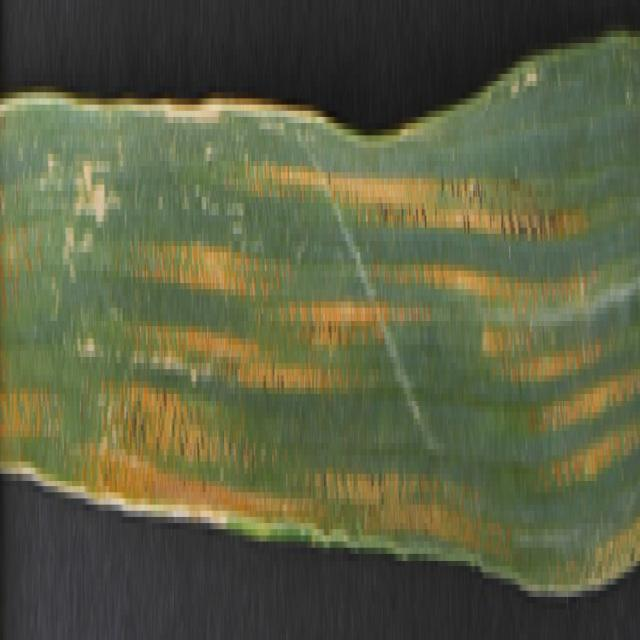leaf rust: (0, 98, 640, 547)
